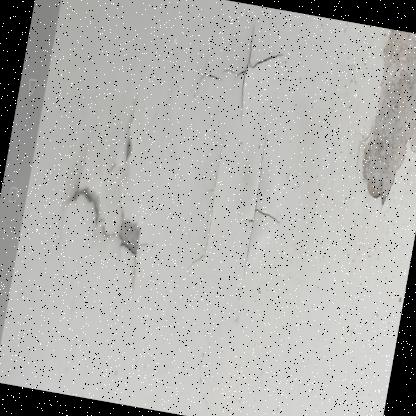Crack: (151, 0, 321, 292), (43, 56, 180, 302), (325, 23, 415, 222)
